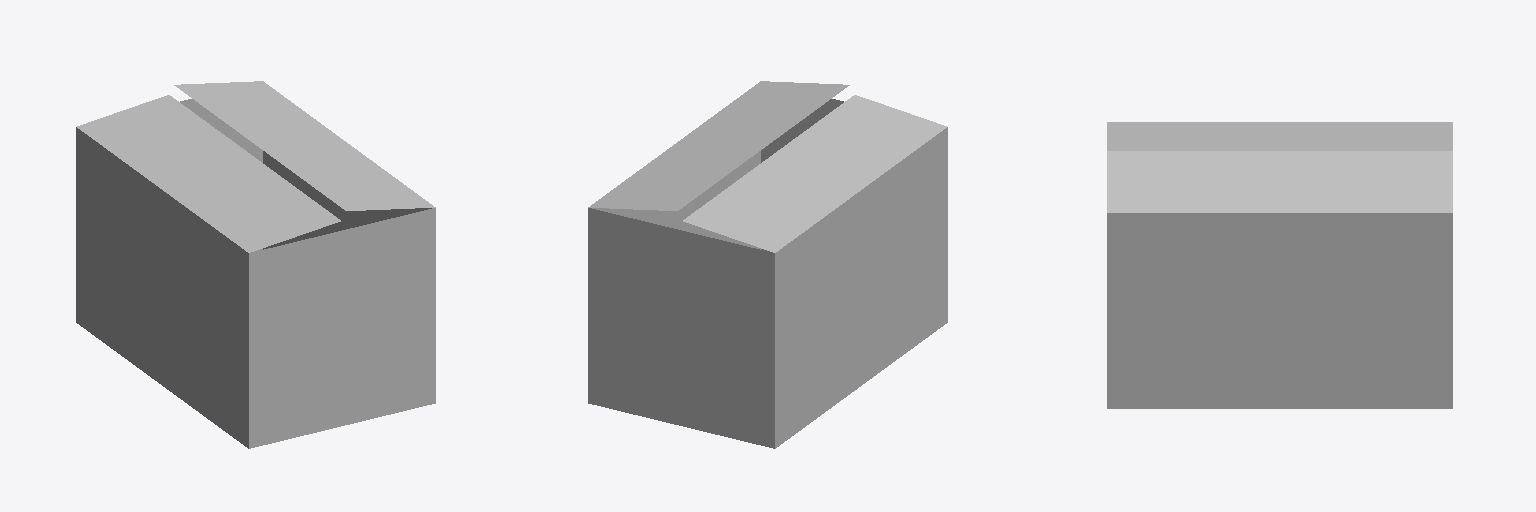
Rendered from Caja1.obj.
3 renders of one model, left to right at view 1: azimuth 30°, elevation 25°; view 2: azimuth 150°, elevation 25°; view 3: azimuth 270°, elevation 25°, orthographic.
Parts seen in each view (by area): view 1: Cubo; view 2: Cubo; view 3: Cubo.
Boxes of the visible parts, <box> form: Cubo: <box>76,81,435,448</box>; Cubo: <box>588,81,947,448</box>; Cubo: <box>1107,122,1452,408</box>.
Bounding box in the file's own units: 0.5 × 0.5465 × 0.8.